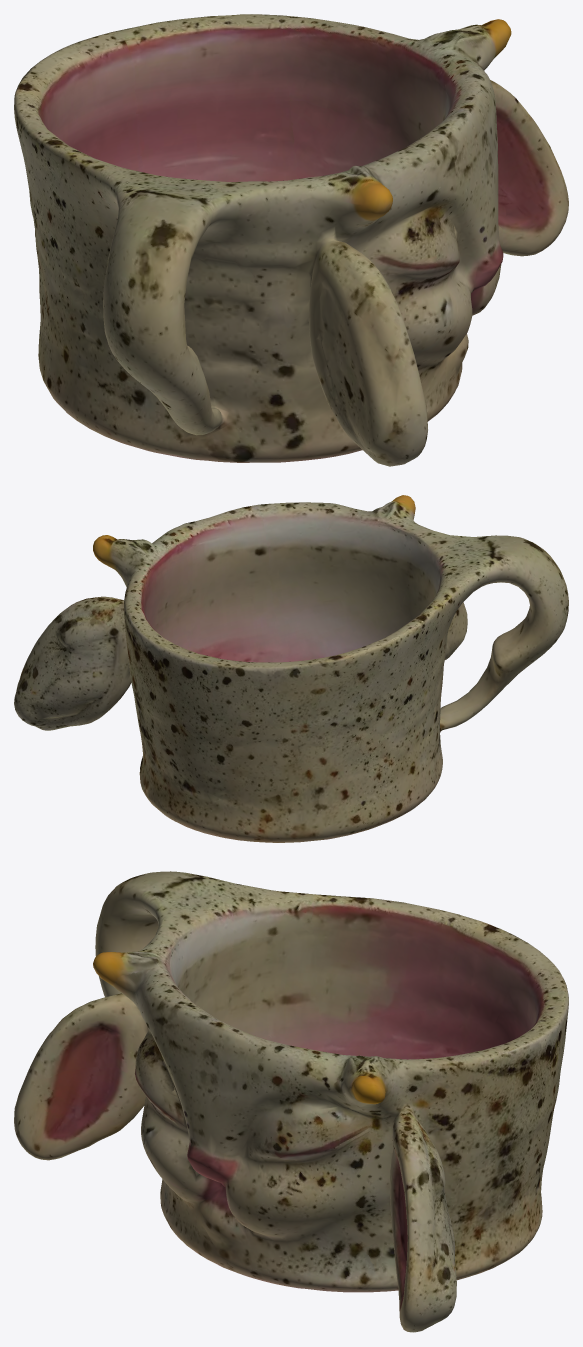
The model's file is bunny_mug.glb.
The picture shows the model from 3 angles, top to bottom: view 1: azimuth 30°, elevation 25°; view 2: azimuth 150°, elevation 25°; view 3: azimuth 270°, elevation 25°; orthographic projection. The views are drawn at different scales.
Visible parts, largest first — view 1: tripo_node_49a500dd-20b1-414e-841e-6cc19f4e8c89; view 2: tripo_node_49a500dd-20b1-414e-841e-6cc19f4e8c89; view 3: tripo_node_49a500dd-20b1-414e-841e-6cc19f4e8c89.
Part boxes in pixels (x1,y1,x2,y2): tripo_node_49a500dd-20b1-414e-841e-6cc19f4e8c89: [14, 14, 568, 466]; tripo_node_49a500dd-20b1-414e-841e-6cc19f4e8c89: [14, 495, 568, 842]; tripo_node_49a500dd-20b1-414e-841e-6cc19f4e8c89: [14, 871, 568, 1332].
Size of the model in its own units: 0.9998 by 0.4856 by 0.9115.
Materials: 1 (1 with a texture image).
